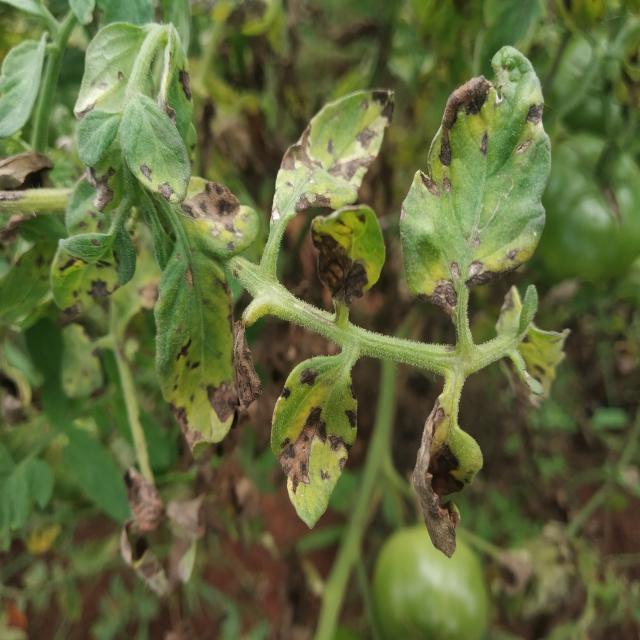Tomato mosaic virus leaf: (400, 47, 550, 311), (269, 356, 359, 528), (410, 396, 484, 560), (122, 92, 192, 206), (49, 227, 137, 317), (310, 220, 384, 302), (183, 178, 261, 254), (228, 320, 266, 420), (164, 254, 214, 318), (282, 161, 336, 215)
